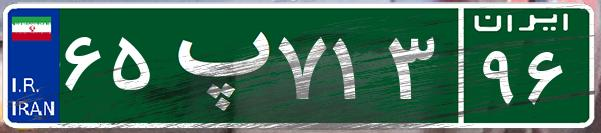1: (330, 28, 385, 110)
3: (385, 28, 445, 110)
5: (110, 28, 158, 105)
6: (57, 26, 110, 107), (525, 38, 570, 115)
7: (273, 28, 330, 110)
9: (475, 38, 525, 113)
پ: (158, 15, 273, 115)
